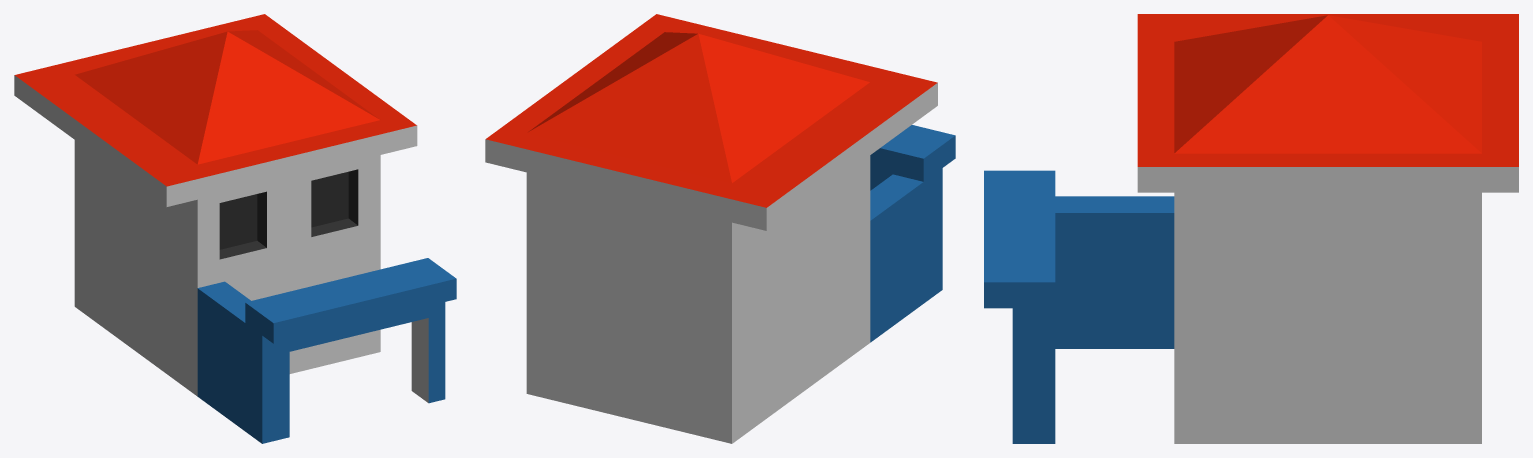
The model's file is loja_8.fbx.
The picture shows the model from 3 angles, left to right: view 1: azimuth 30°, elevation 25°; view 2: azimuth 150°, elevation 25°; view 3: azimuth 270°, elevation 25°; orthographic projection. The views are drawn at different scales.
Parts seen in each view (by area): view 1: Cube; view 2: Cube; view 3: Cube.
Boxes of the visible parts, left/top/right/bottom form: Cube: left=14, top=14, right=456, bottom=443; Cube: left=485, top=14, right=955, bottom=443; Cube: left=984, top=14, right=1518, bottom=443.
Size of the model in its own units: 2546 by 2894 by 3762.
